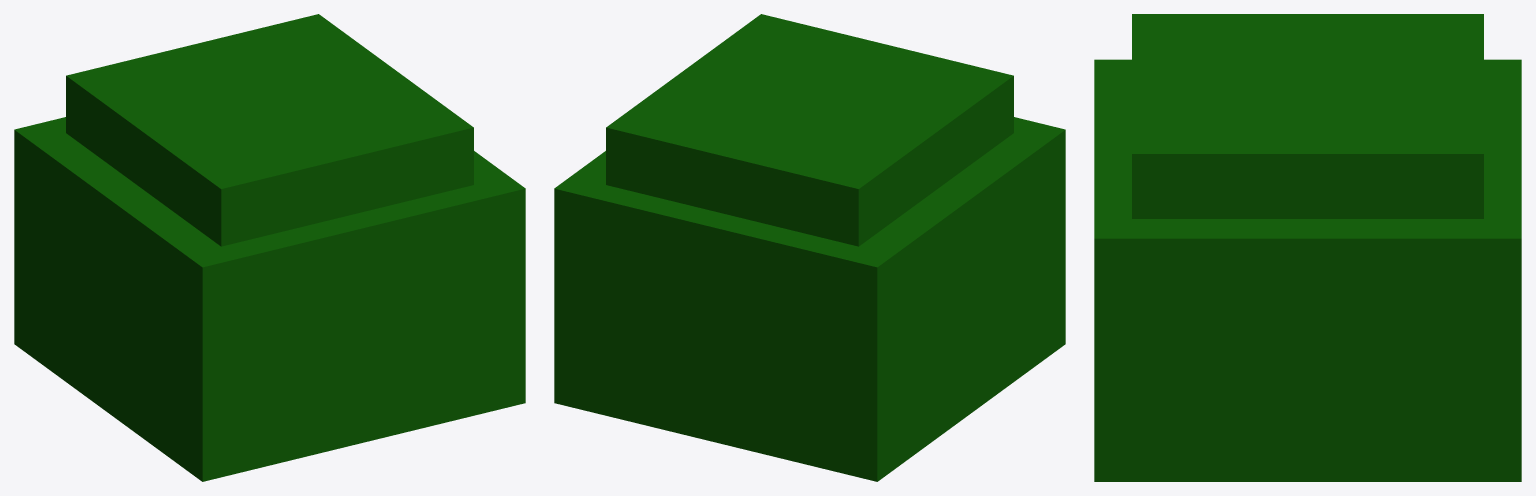
The model's file is Arbusto 1.fbx.
3 views of the same model, side by side, from view 1: azimuth 30°, elevation 25°; view 2: azimuth 150°, elevation 25°; view 3: azimuth 270°, elevation 25° (orthographic). The views are drawn at different scales.
Parts seen in each view (by area): view 1: Cube.075; view 2: Cube.075; view 3: Cube.075.
Part boxes in pixels (box(x1,y1,x2,y2)): Cube.075: box(14, 14, 525, 481); Cube.075: box(554, 14, 1065, 481); Cube.075: box(1094, 14, 1521, 481).
Bounding box in the file's own units: 238 × 191 × 240.
